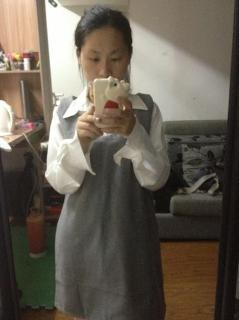long sleeve top: (45, 85, 170, 242)
vest: (56, 93, 166, 319)
